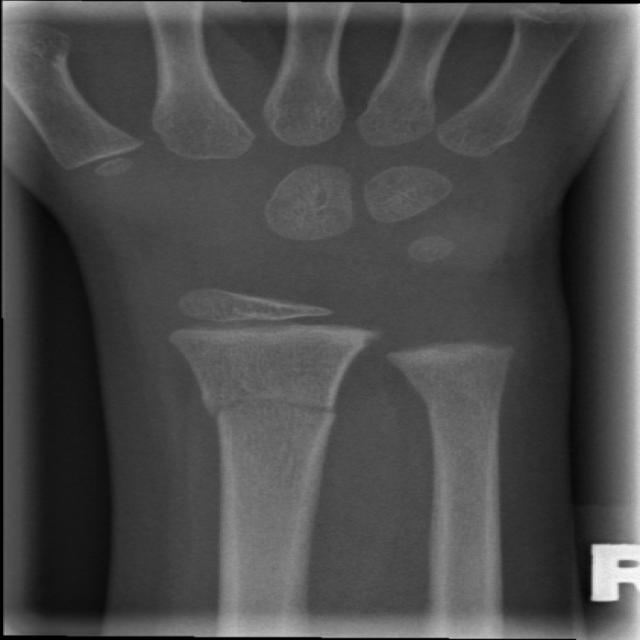radius fracture: (184, 349, 374, 525)
